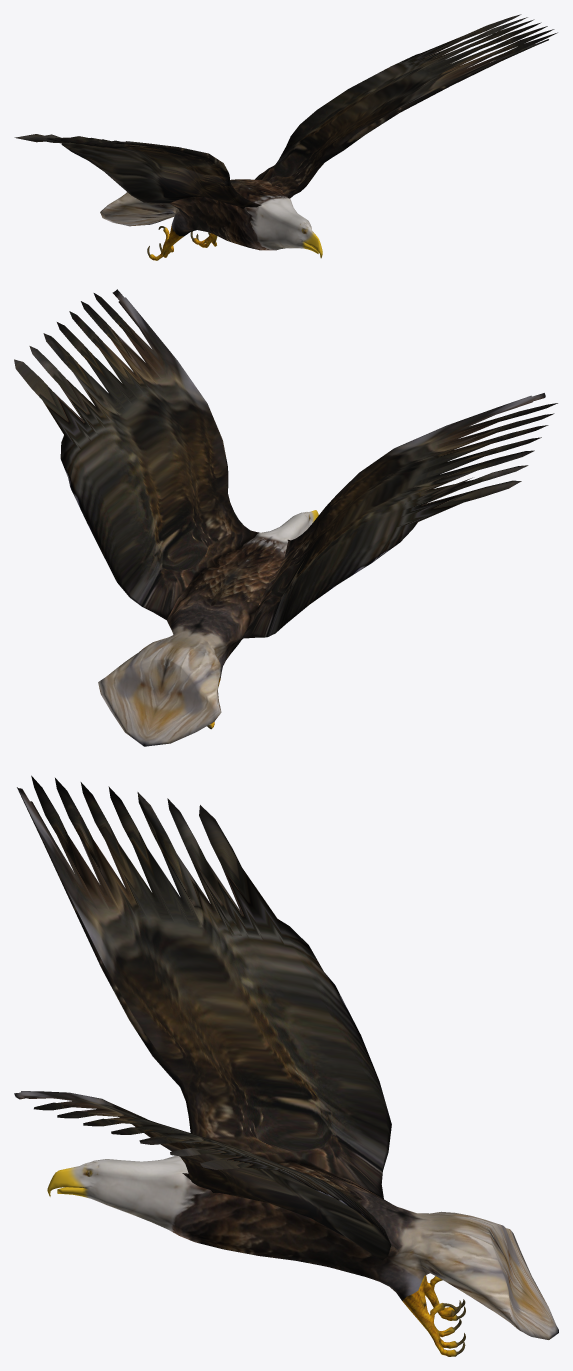
The model's file is Eagle-original_000138.obj.
The picture shows the model from 3 angles, top to bottom: view 1: azimuth 30°, elevation 25°; view 2: azimuth 150°, elevation 25°; view 3: azimuth 270°, elevation 25°; orthographic projection. The views are drawn at different scales.
Parts seen in each view (by area): view 1: Flugel_Plane.003; view 2: Flugel_Plane.003; view 3: Flugel_Plane.003.
Boxes of the visible parts, x1,y1,x2,y2 form: Flugel_Plane.003: (14, 14, 557, 260); Flugel_Plane.003: (14, 289, 557, 746); Flugel_Plane.003: (14, 775, 558, 1356).
Size of the model in its own units: 9.68 by 4.95 by 6.18.
1 material, 1 textured.
